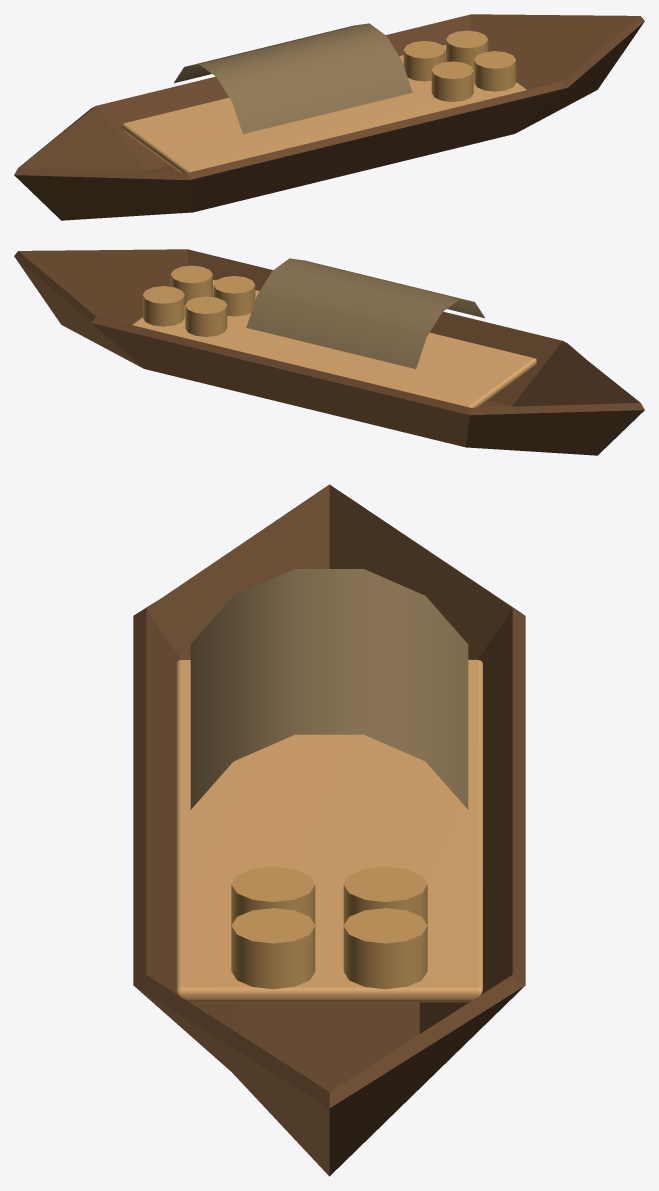
Rendered from boat.glb.
The picture shows the model from 3 angles, top to bottom: view 1: azimuth 30°, elevation 25°; view 2: azimuth 150°, elevation 25°; view 3: azimuth 270°, elevation 25°; orthographic projection. The views are drawn at different scales.
Parts seen in each view (by area): view 1: Hull, Cabin, Deck, Basket, Basket.001, Basket.002, Basket.003; view 2: Hull, Cabin, Deck, Basket.002, Basket.003, Basket, Basket.001; view 3: Hull, Deck, Cabin, Basket.001, Basket.003, Basket, Basket.002.
Part boxes in pixels (x1=…): Hull: x1=14, y1=14, x2=644, y2=220; Cabin: x1=174, y1=23, x2=412, y2=133; Deck: x1=122, y1=44, x2=526, y2=172; Basket: x1=431, y1=61, x2=473, y2=101; Basket.001: x1=474, y1=51, x2=516, y2=91; Basket.002: x1=403, y1=41, x2=445, y2=81; Basket.003: x1=446, y1=30, x2=488, y2=69; Hull: x1=14, y1=249, x2=644, y2=455; Cabin: x1=246, y1=258, x2=484, y2=368; Deck: x1=132, y1=279, x2=536, y2=407; Basket.002: x1=185, y1=296, x2=227, y2=336; Basket.003: x1=142, y1=286, x2=184, y2=326; Basket: x1=213, y1=276, x2=255, y2=316; Basket.001: x1=170, y1=265, x2=212, y2=304; Hull: x1=133, y1=484, x2=525, y2=1176; Deck: x1=176, y1=659, x2=482, y2=1002; Cabin: x1=190, y1=569, x2=468, y2=809; Basket.001: x1=231, y1=908, x2=315, y2=989; Basket.003: x1=343, y1=908, x2=427, y2=989; Basket: x1=231, y1=866, x2=315, y2=925; Basket.002: x1=343, y1=866, x2=427, y2=925.
Size of the model in its own units: 5.2 by 0.8962 by 1.4.
